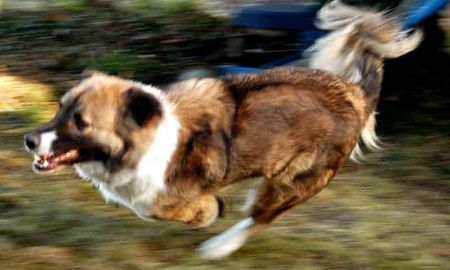cau_ovcharka: (23, 0, 422, 260)
